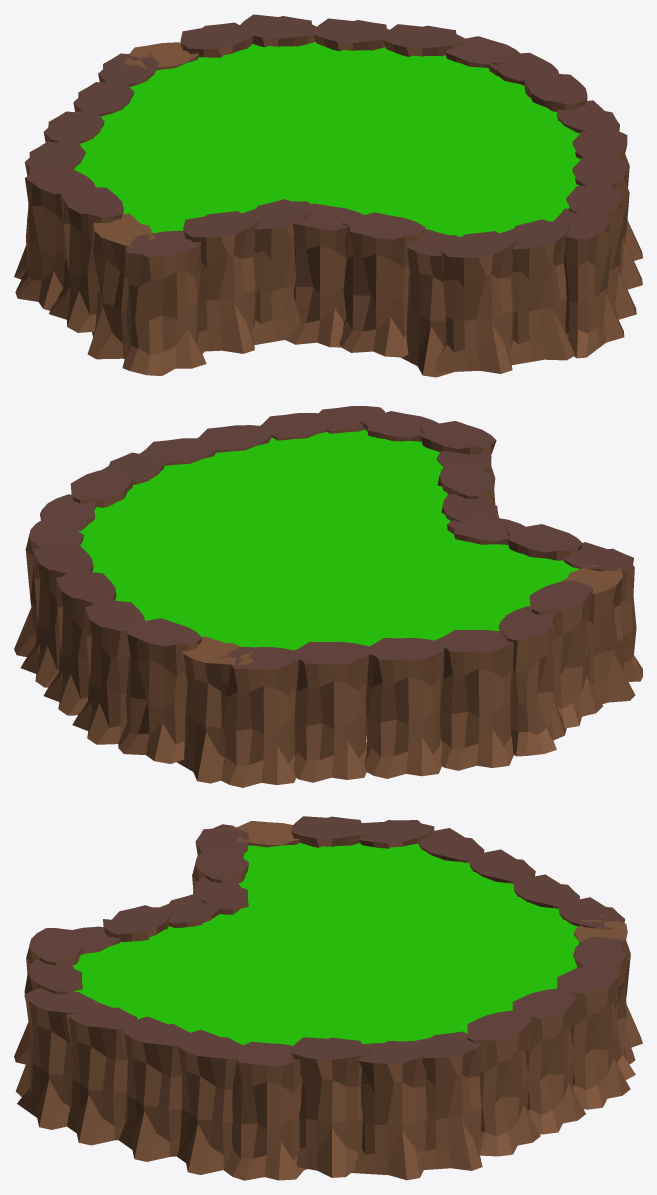
File: structure_cliff_1.fbx
The picture shows the model from 3 angles, top to bottom: view 1: azimuth 30°, elevation 25°; view 2: azimuth 150°, elevation 25°; view 3: azimuth 270°, elevation 25°; orthographic projection. The views are drawn at different scales.
Visible parts, largest first — view 1: cliff; view 2: cliff; view 3: cliff.
Part boxes in pixels (x1,y1,x2,y2): cliff: [14, 14, 642, 377]; cliff: [14, 406, 642, 787]; cliff: [14, 816, 642, 1180].
Size of the model in its own units: 2476 by 537 by 2563.
